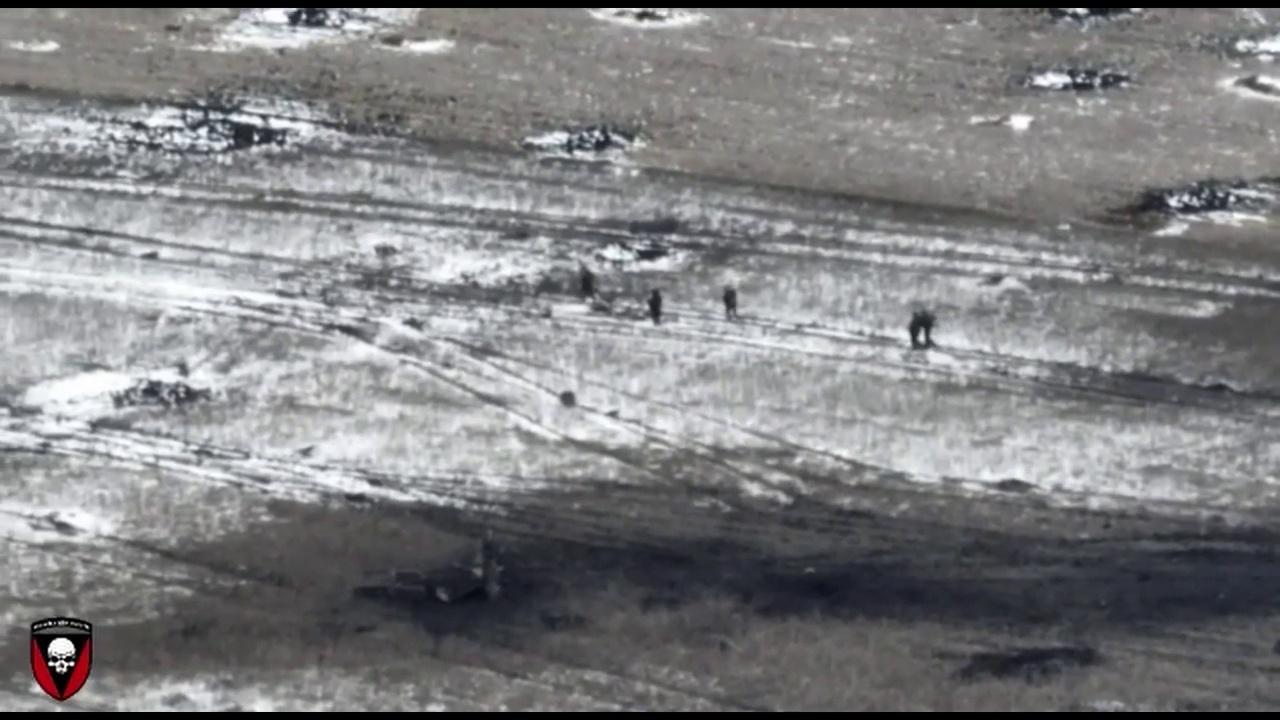person: (647, 286, 662, 324), (907, 310, 921, 348), (723, 282, 738, 316), (580, 266, 594, 300), (921, 308, 933, 346)
